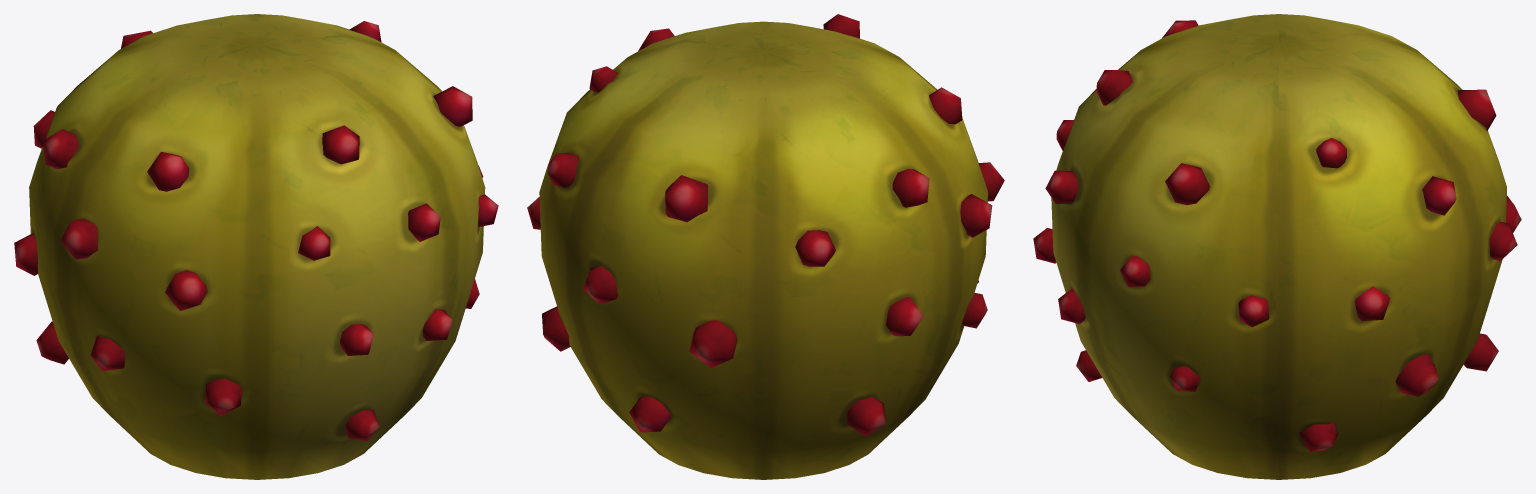
The model's file is DE_Cactus_15.fbx.
3 renders of one model, left to right at view 1: azimuth 30°, elevation 25°; view 2: azimuth 150°, elevation 25°; view 3: azimuth 270°, elevation 25°, orthographic.
Visible parts, largest first — view 1: DE_Cactus_15; view 2: DE_Cactus_15; view 3: DE_Cactus_15.
Boxes of the visible parts, bbox=[...] form: DE_Cactus_15: bbox=[14, 14, 498, 479]; DE_Cactus_15: bbox=[527, 14, 1004, 479]; DE_Cactus_15: bbox=[1033, 14, 1521, 479].
Size of the model in its own units: 1.7 by 1.47 by 1.69.
